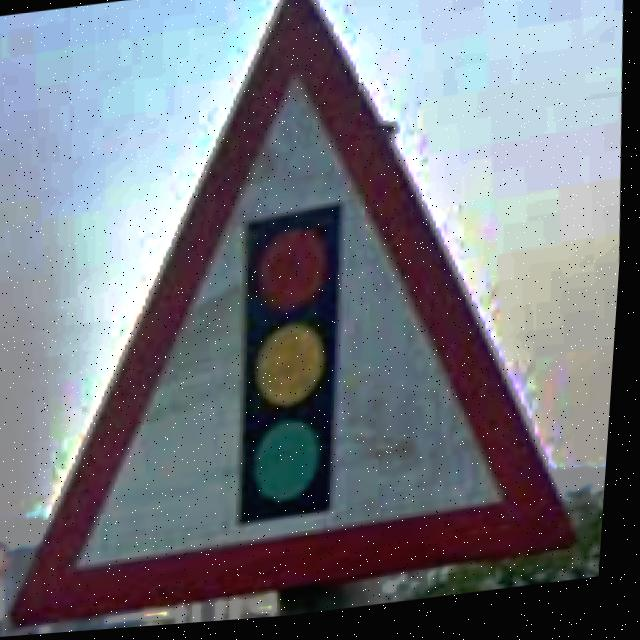signalahead: (17, 0, 587, 630)
